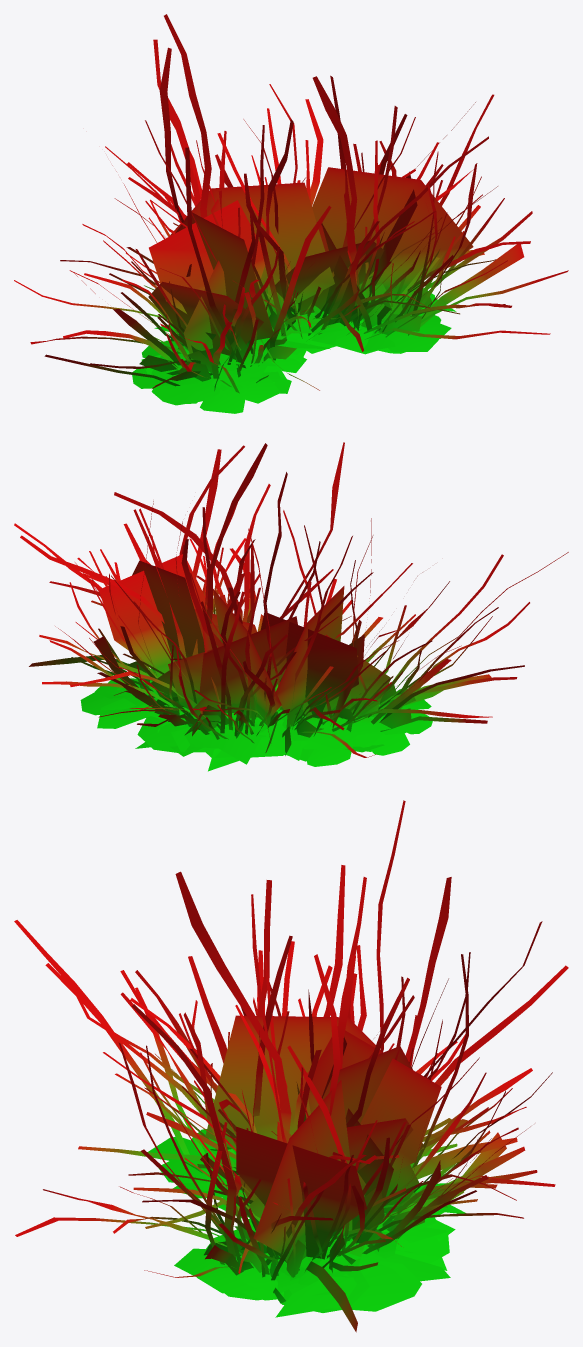
File: Var2_LOD3.fbx
3 renders of one model, top to bottom at view 1: azimuth 30°, elevation 25°; view 2: azimuth 150°, elevation 25°; view 3: azimuth 270°, elevation 25°, orthographic. The views are drawn at different scales.
Visible parts, largest first — view 1: _4y2v_Var2_LOD3; view 2: _4y2v_Var2_LOD3; view 3: _4y2v_Var2_LOD3.
Part boxes in pixels (left/top/right/bottom): _4y2v_Var2_LOD3: left=14, top=14, right=568, bottom=413; _4y2v_Var2_LOD3: left=14, top=442, right=568, bottom=771; _4y2v_Var2_LOD3: left=14, top=800, right=568, bottom=1332.
Size of the model in its own units: 151 by 94.28 by 123.
